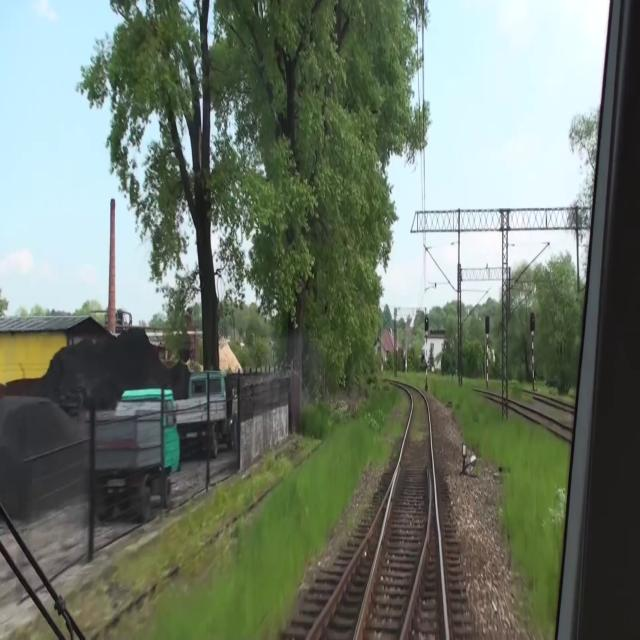rail-track: (358, 389, 430, 639), (312, 510, 383, 639), (405, 499, 443, 639), (539, 417, 606, 456)
